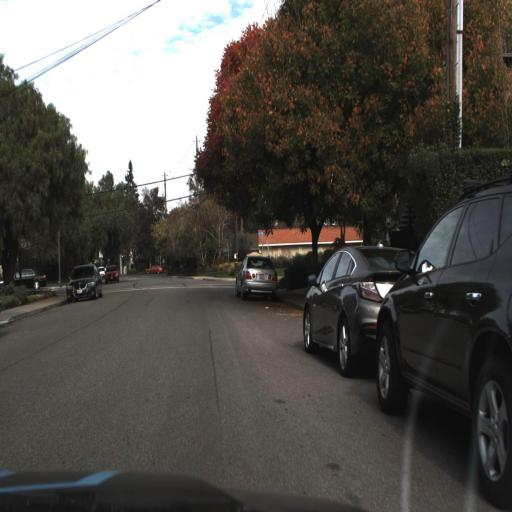car: (373, 182, 512, 507), (303, 237, 410, 377), (234, 248, 284, 306), (66, 262, 100, 296), (15, 266, 48, 292)
